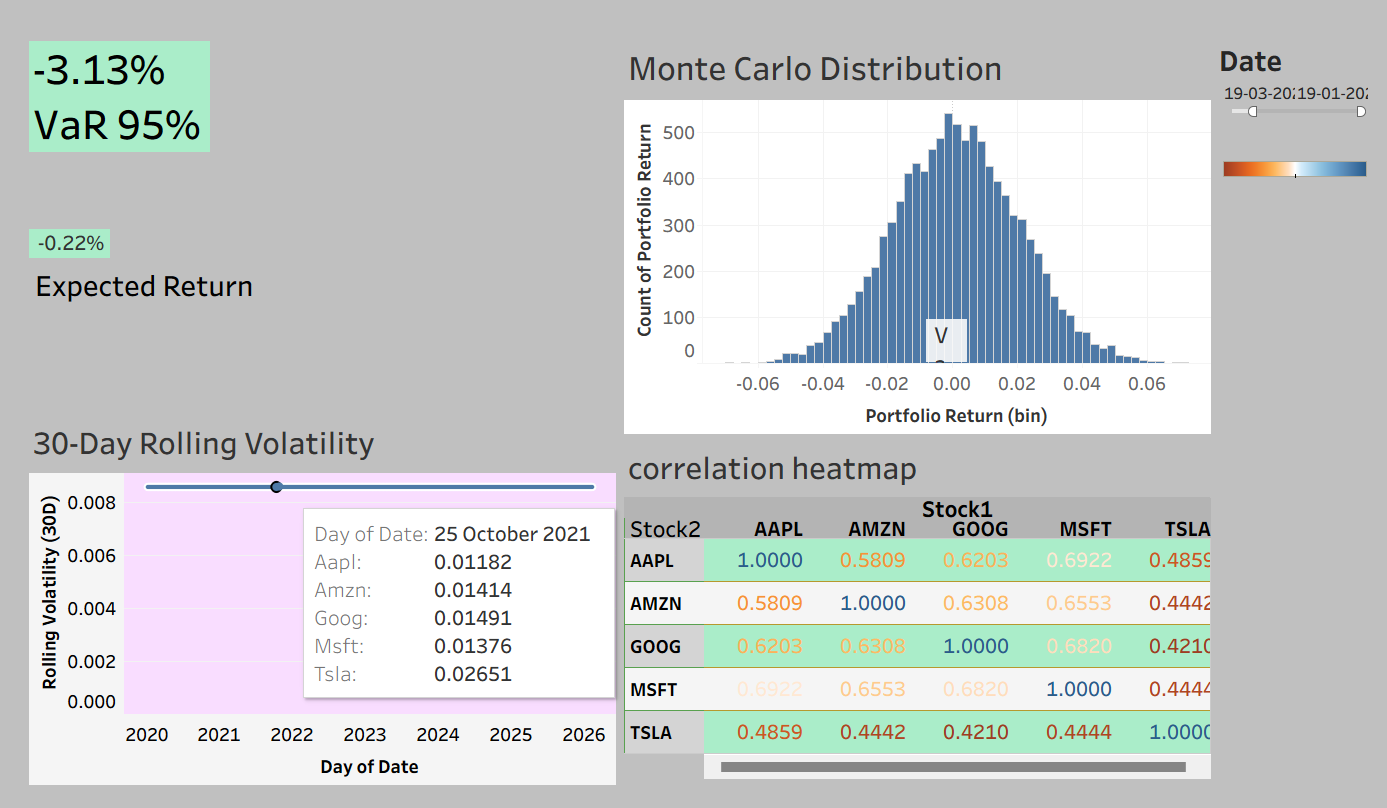

This screenshot's page, from the dashboard's own definition file:
{"tool":"tableau","page":{"name":"Dashboard 1","canvas":[1366,768],"ordinal":0},"visuals":[{"type":"worksheet","title":"VaR Card","mark":"Text","box":[8,8,595,188]},{"type":"worksheet","title":"Monte Carlo Distribution","mark":"Automatic","rows":["Portfolio_Return"],"cols":["Portfolio Return (bin)"],"box":[603,8,595,401]},{"type":"filter","title":"Expected Return KPI","param":"[federated.09nckgn0e4m7zw13mr9k21mvfwr9].[none:Date:qk]","box":[1198,8,160,90]},{"type":"legend","title":"correlation heatmap","param":"[federated.11ce6201rt2eid16qospm1haev8u].[sum:Correlation:qk]","box":[1198,98,160,81]},{"type":"worksheet","title":"Expected Return KPI","mark":"Text","box":[8,196,595,188]},{"type":"worksheet","title":"Rolling Volatility (30-Day)","mark":"Line","cols":["Date"],"box":[8,384,595,376]},{"type":"worksheet","title":"correlation heatmap","mark":"Automatic","rows":["Stock2"],"cols":["Stock1"],"box":[603,409,595,351]}]}

Visuals, with their boxes on the page's 1366x768 design canvas (x1, y1, x2, y2). These are canvas units, not pixel positions in the 1387x808 screenshot, which may show the page scaled, cropped or inside an application window:
"VaR Card" worksheet (Text marks): [x1=8, y1=8, x2=603, y2=196]
"Monte Carlo Distribution" worksheet: [x1=603, y1=8, x2=1198, y2=409]
"Expected Return KPI" filter: [x1=1198, y1=8, x2=1358, y2=98]
"correlation heatmap" legend: [x1=1198, y1=98, x2=1358, y2=179]
"Expected Return KPI" worksheet (Text marks): [x1=8, y1=196, x2=603, y2=384]
"Rolling Volatility (30-Day)" worksheet (Line marks): [x1=8, y1=384, x2=603, y2=760]
"correlation heatmap" worksheet: [x1=603, y1=409, x2=1198, y2=760]
